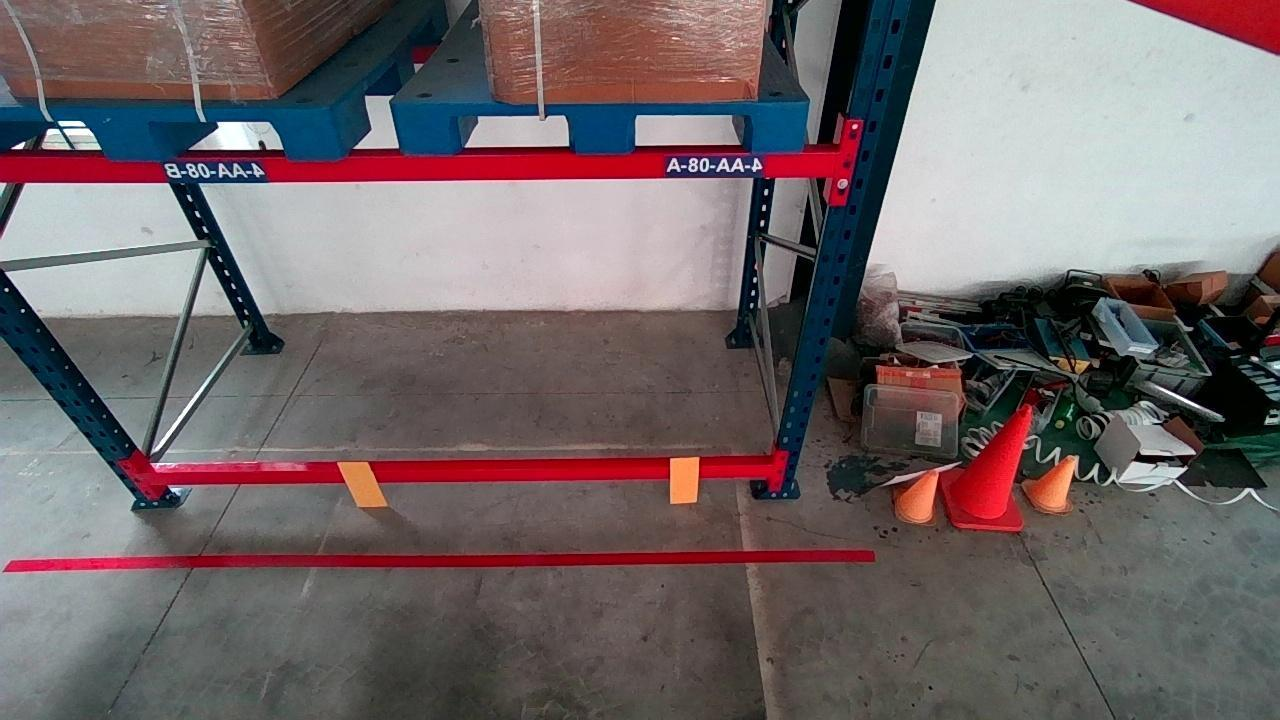h_rack: (3, 145, 845, 188), (152, 455, 772, 491)
orange_strip: (339, 460, 387, 506), (669, 454, 701, 502)
red_line: (4, 545, 873, 571)
small_pallet: (400, 100, 811, 152), (2, 103, 335, 160)
